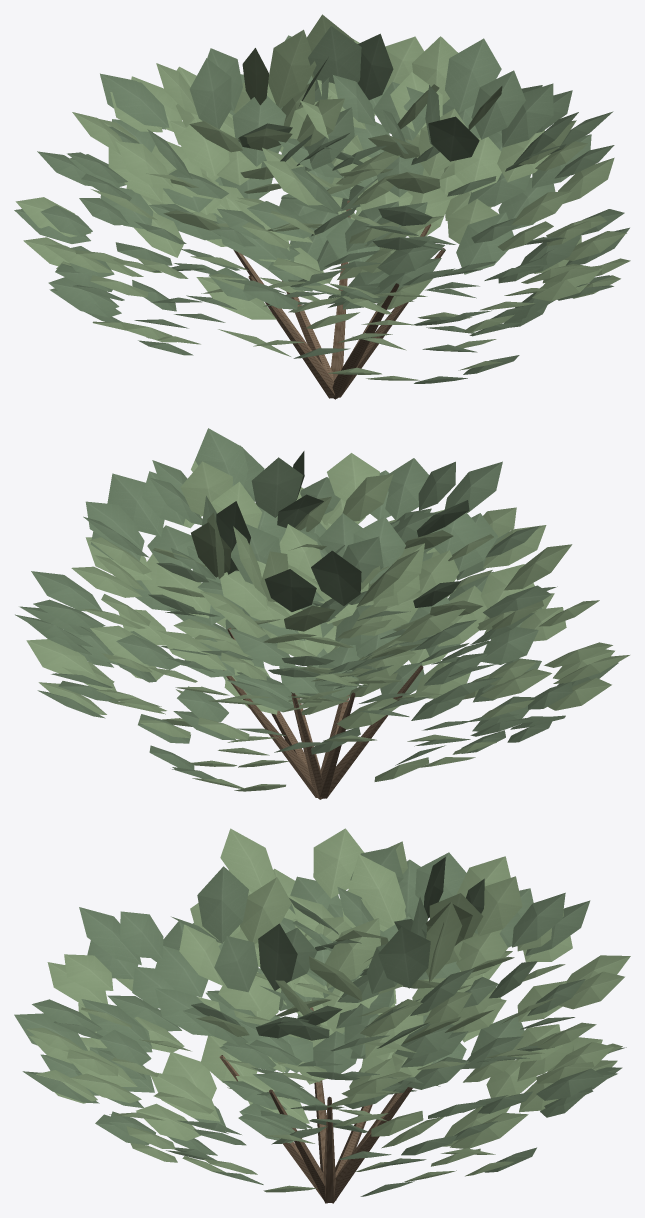
The model's file is Shrub3.fbx.
The picture shows the model from 3 angles, top to bottom: view 1: azimuth 30°, elevation 25°; view 2: azimuth 150°, elevation 25°; view 3: azimuth 270°, elevation 25°; orthographic projection. The views are drawn at different scales.
Visible parts, largest first — view 1: Shrub3_LOD0; view 2: Shrub3_LOD0; view 3: Shrub3_LOD0.
Boxes of the visible parts, x1,y1,x2,y2 form: Shrub3_LOD0: [14, 14, 630, 399]; Shrub3_LOD0: [15, 428, 629, 799]; Shrub3_LOD0: [14, 828, 630, 1203].
Size of what is drawn, in the model's own units: 145 by 82.47 by 142.
1 material, 1 textured.
